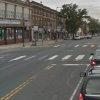Crosswalk: (11, 42, 86, 76)
